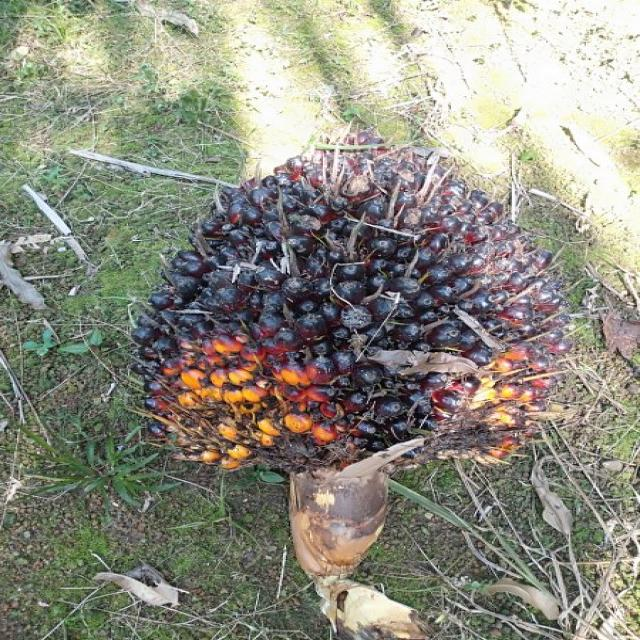fraksi 00: (123, 139, 566, 480)
